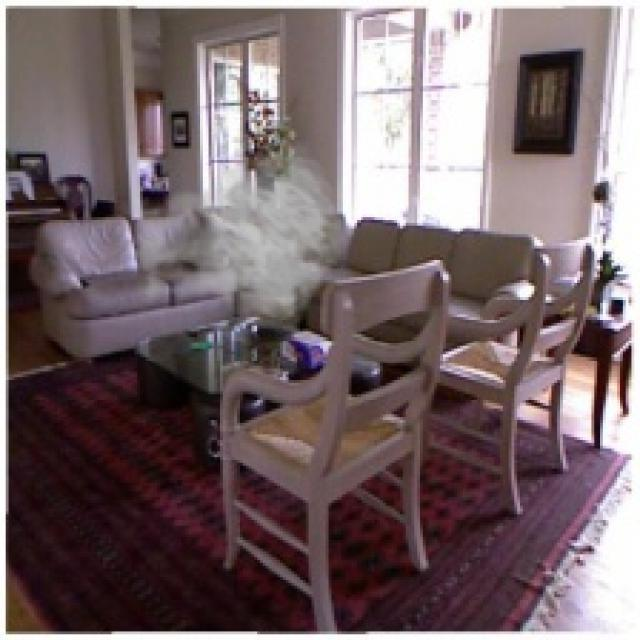Smoke: (117, 140, 349, 340)
